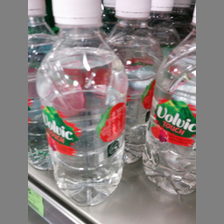water: (33, 1, 127, 207), (142, 4, 196, 196)
